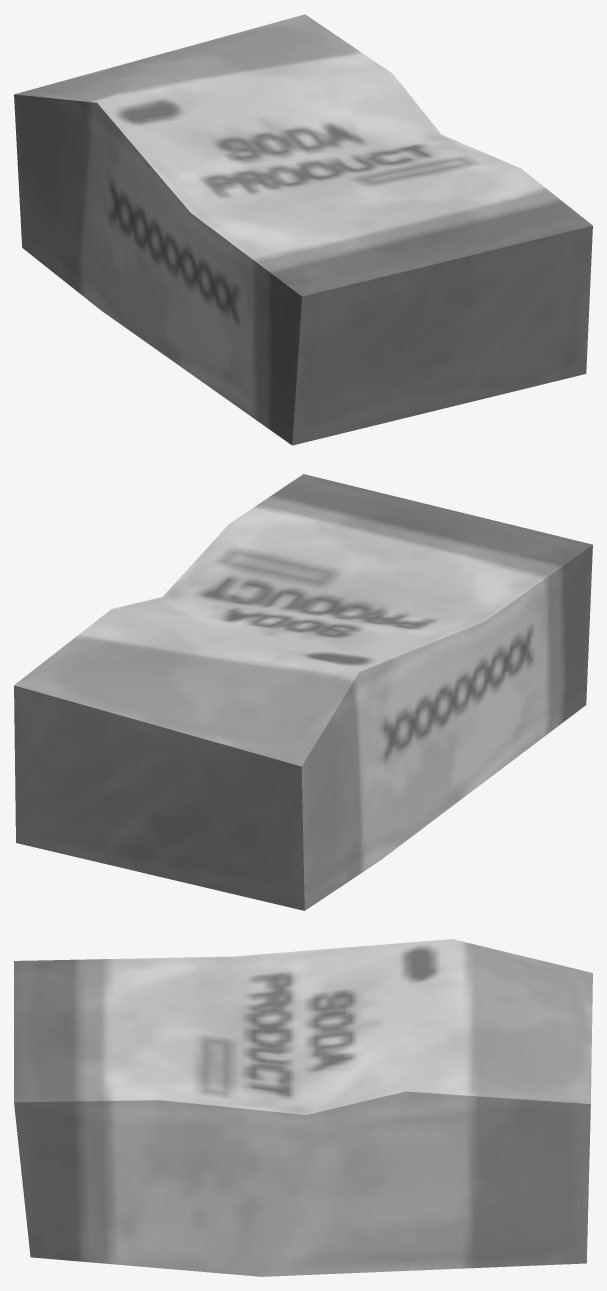
The model's file is Pfb_Bags.fbx.
3 views of the same model, one above another, from view 1: azimuth 30°, elevation 25°; view 2: azimuth 150°, elevation 25°; view 3: azimuth 270°, elevation 25° (orthographic).
Parts seen in each view (by area): view 1: Mat_Bags_01_5; view 2: Mat_Bags_01_5; view 3: Mat_Bags_01_5.
Part boxes in pixels (<box>): Mat_Bags_01_5: <box>14,14,592,445</box>; Mat_Bags_01_5: <box>14,474,592,910</box>; Mat_Bags_01_5: <box>14,939,592,1276</box>.
Size of the model in its own units: 0.55 by 0.3685 by 0.9411.
Materials: 1 (1 with a texture image).
